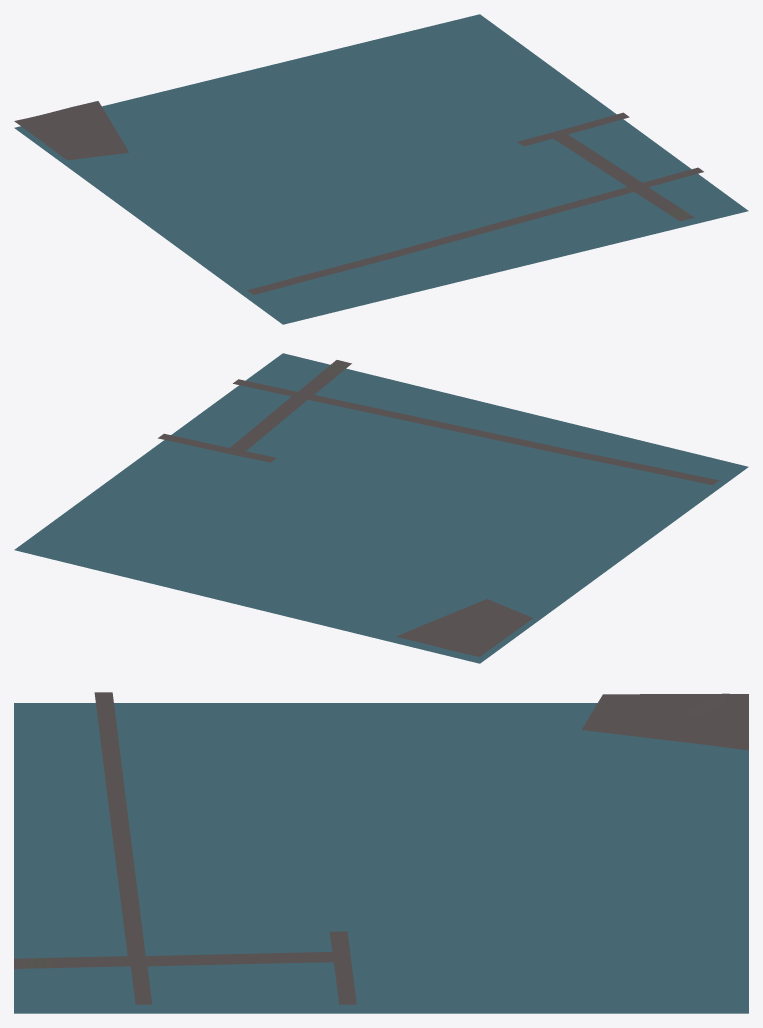
3 views of the same model, one above another, from view 1: azimuth 30°, elevation 25°; view 2: azimuth 150°, elevation 25°; view 3: azimuth 270°, elevation 25° (orthographic). The views are drawn at different scales.
Parts seen in each view (by area): view 1: c_p04_m01; view 2: c_p04_m01; view 3: c_p04_m01.
Boxes of the visible parts, x1=… form: c_p04_m01: x1=14, y1=14, x2=748, y2=324; c_p04_m01: x1=14, y1=353, x2=748, y2=663; c_p04_m01: x1=14, y1=692, x2=748, y2=1013.
Bounding box in the file's own units: 128 × 2.1 × 128.
